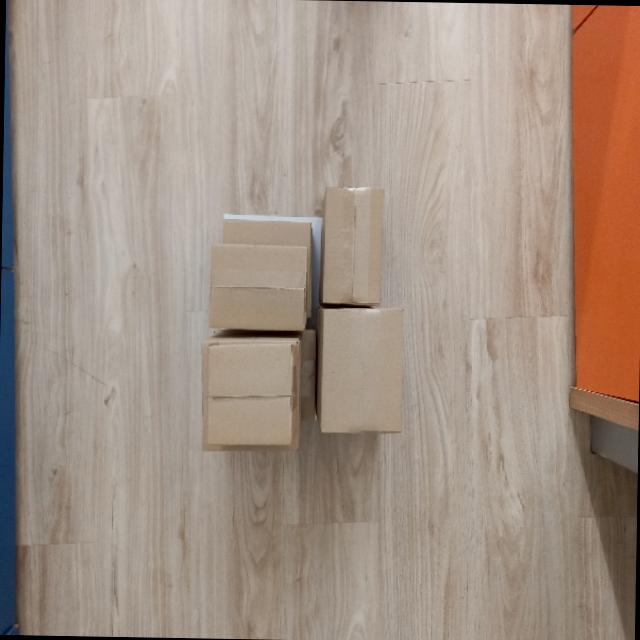box: (313, 303, 404, 431), (202, 345, 302, 449), (208, 242, 313, 334), (319, 186, 390, 308)
